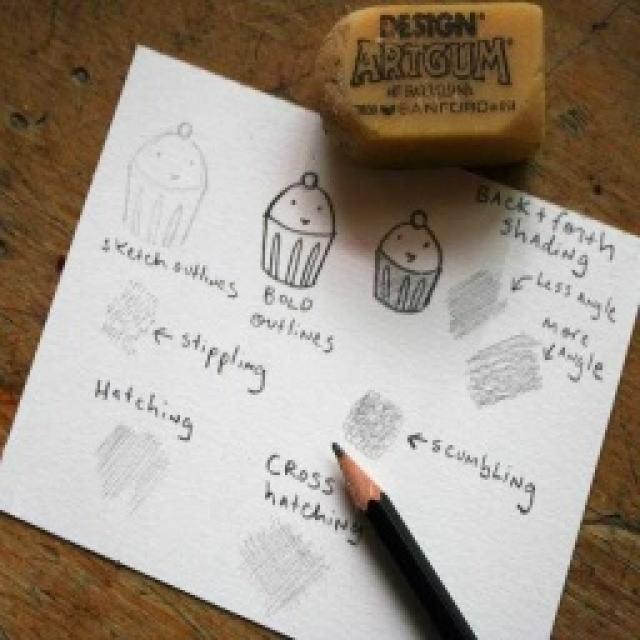Silgi: (312, 3, 548, 168)
